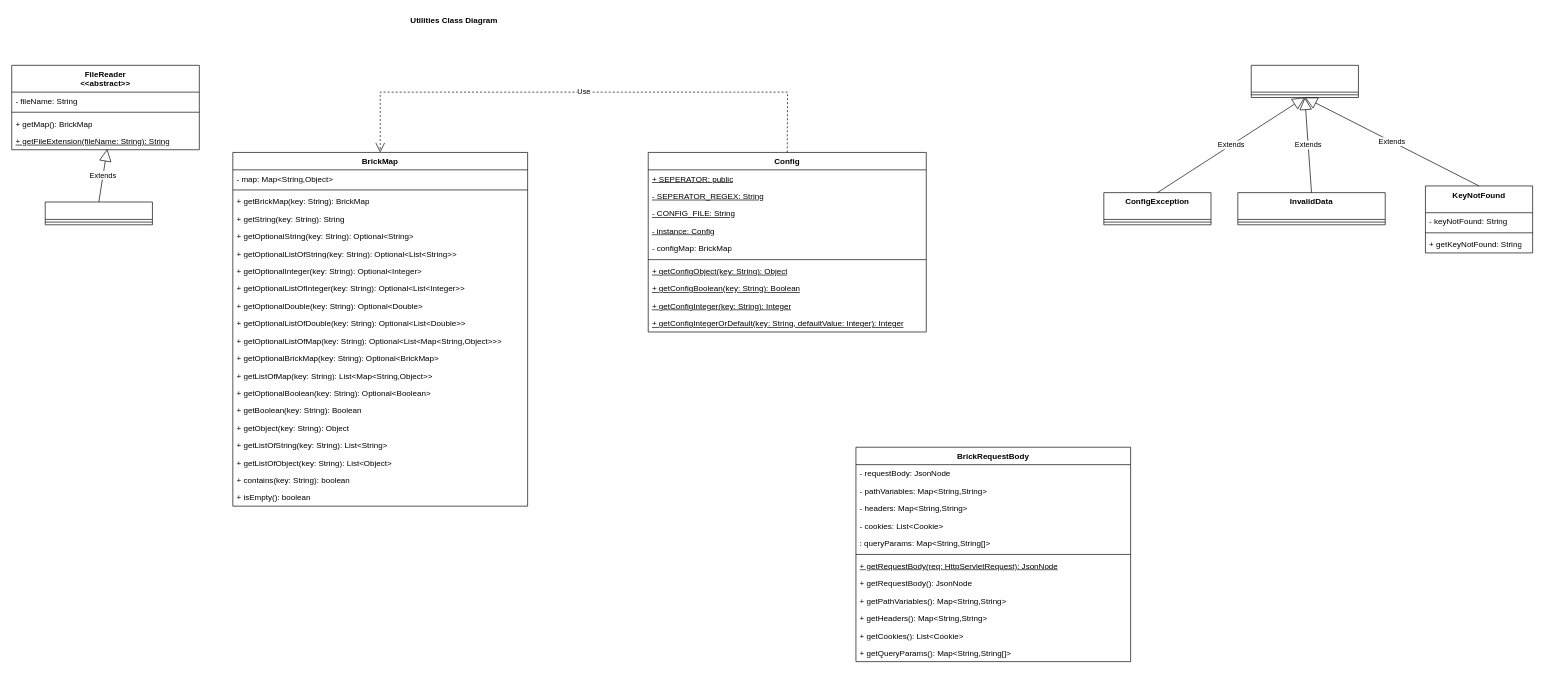
Image size: 1544x675. Some labels were removed from this diagram. The centre of each missing label's shape, as x and y in pixels:
"Exception <<Java Core>>" goes at (1304,81).
"YamlFileReader" goes at (98,213).
